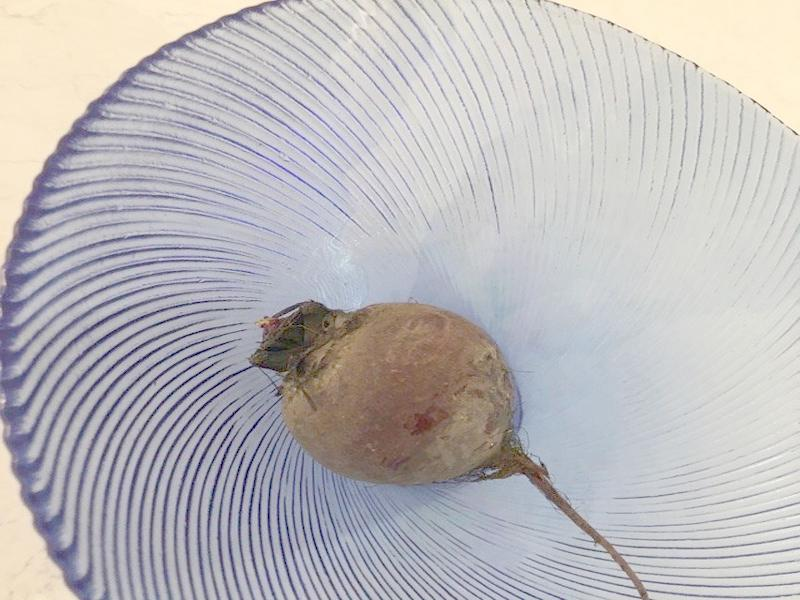Beet: (250, 302, 646, 600)
